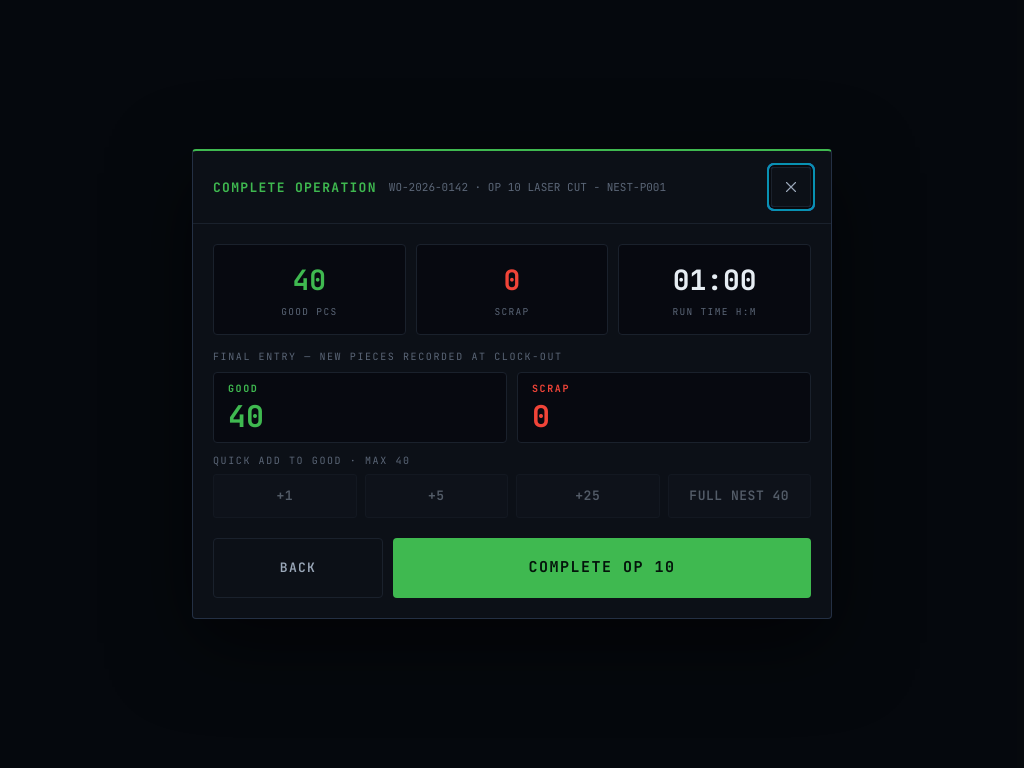
it: KioskCompleteModal — quantity quick adds › full-nest tap › appends Full nest {n} when the operation carries a per-item target
Click the button with test id "kiosk-qty-good".
click(243, 388)  # box [213,372,507,443]
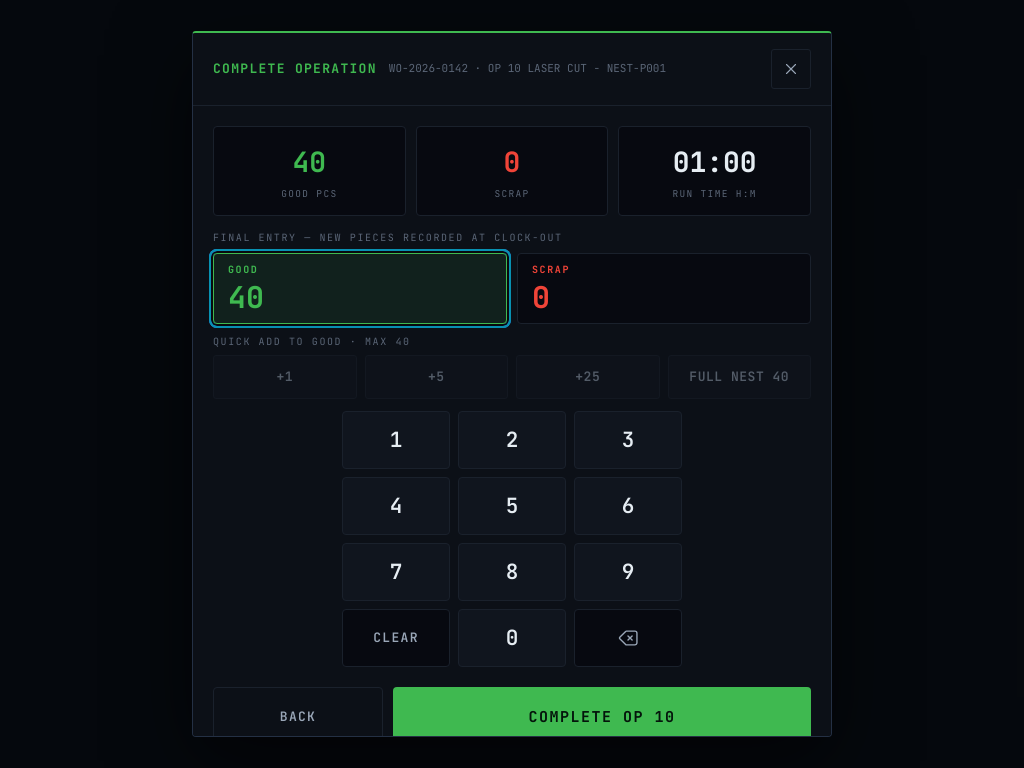
Click the button "Clear".
click(396, 638)  # box [342,609,450,667]
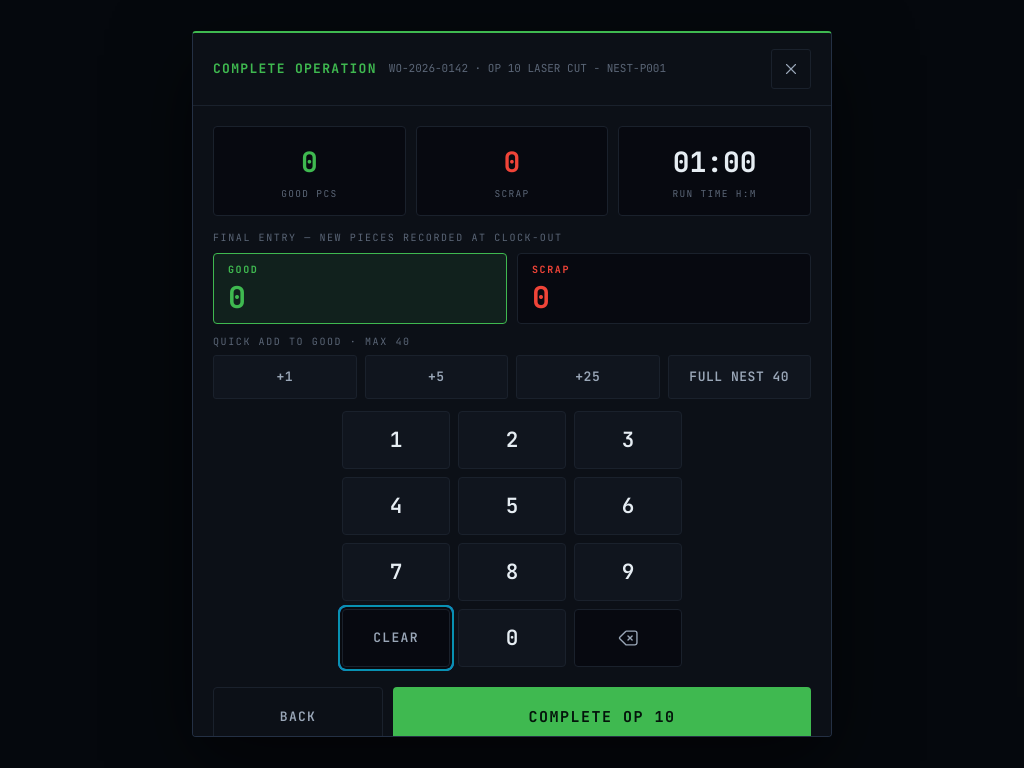
Click the button "Full nest 40".
click(739, 377)  # box [668,355,811,399]
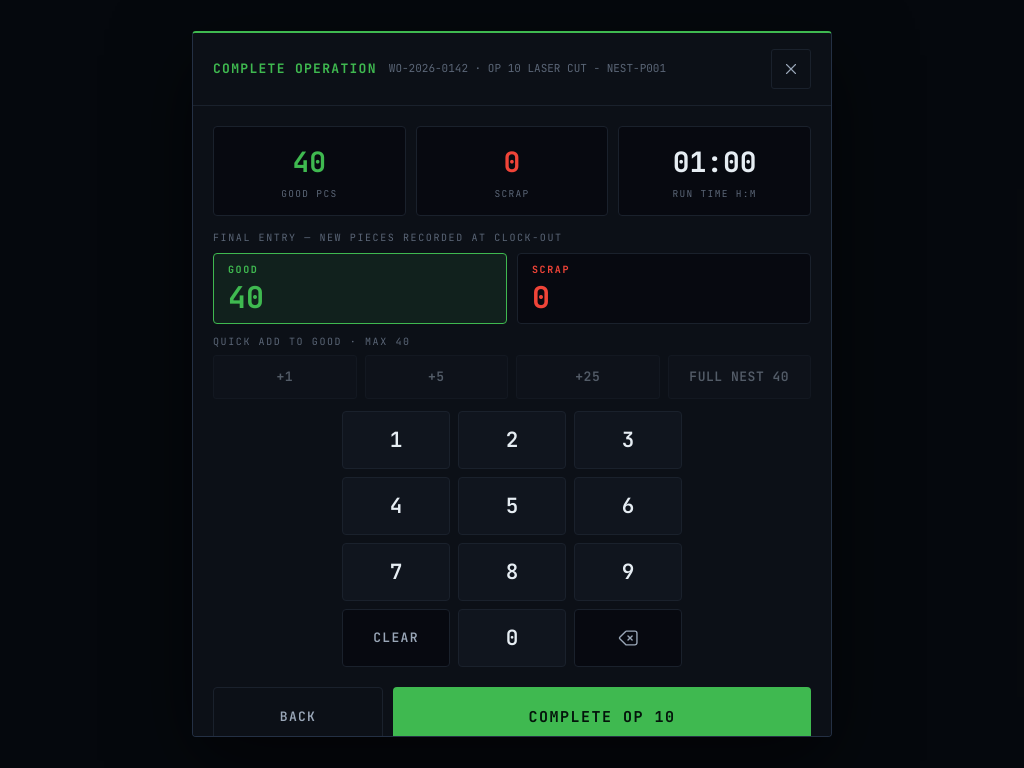
Expected: the 2nd text "40" is shown, [228,277,264,317]
